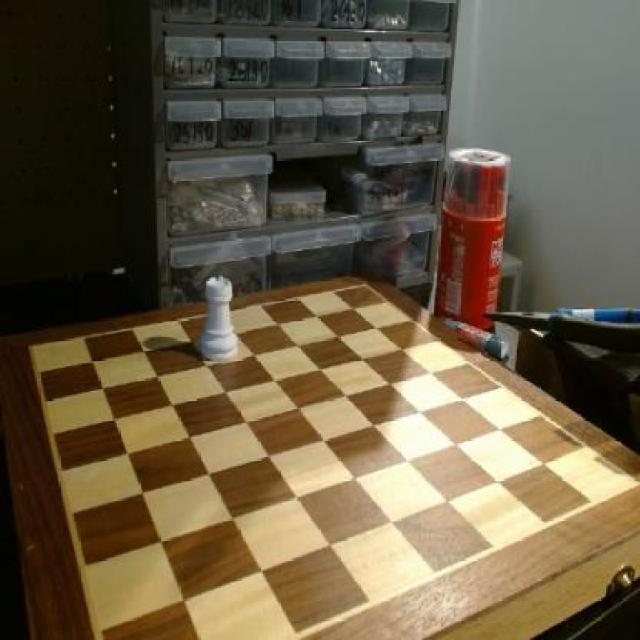white-queen: (200, 268, 248, 368)
